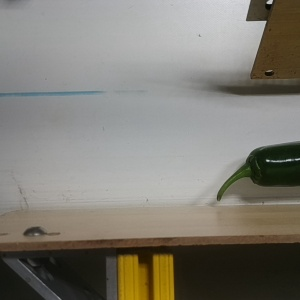Cut Point: (240, 146, 273, 188)
